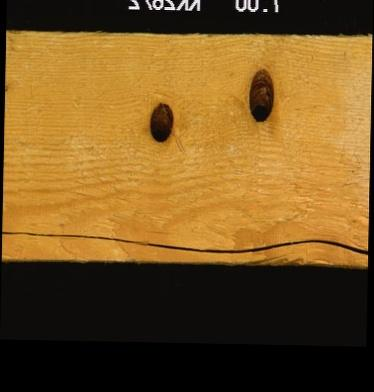split: (1, 231, 367, 254)
